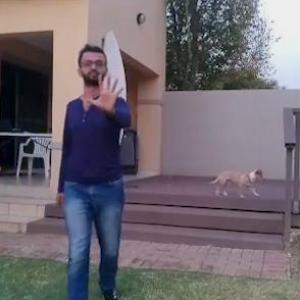follow_hand: (78, 66, 128, 118)
